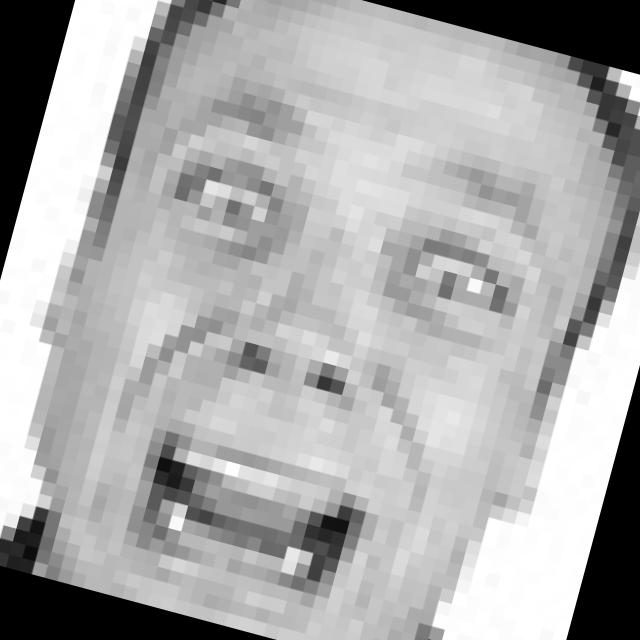fear: (35, 68, 570, 640)
